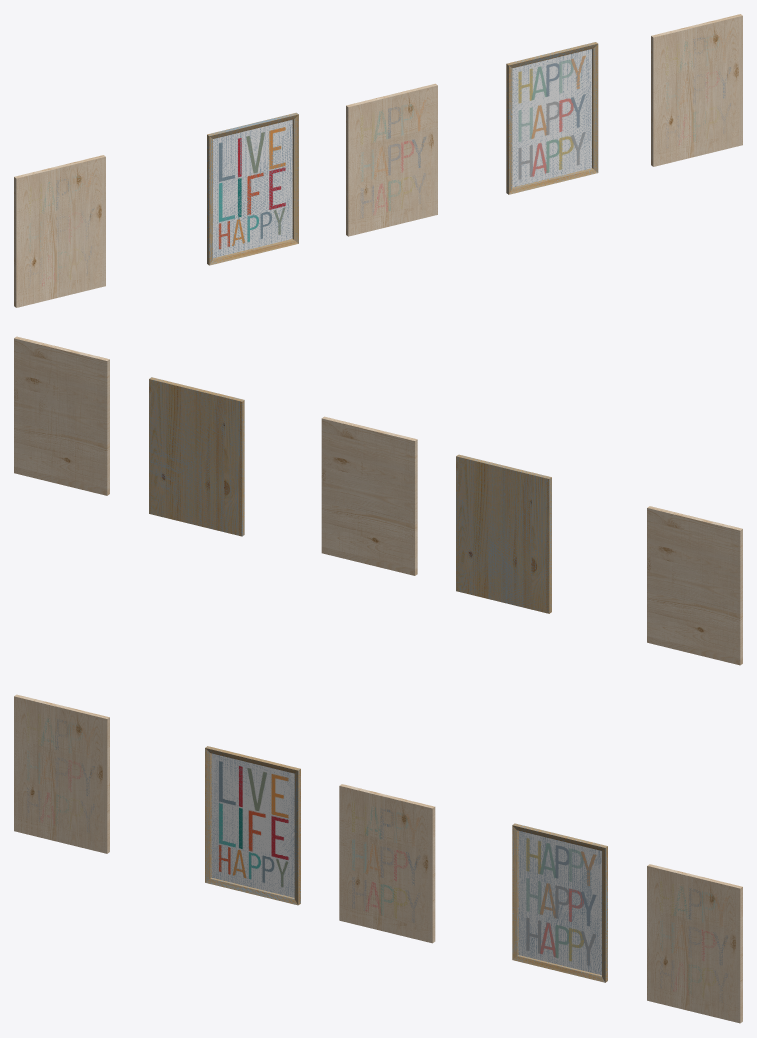
File: Furniture-25.fbx
3 renders of one model, top to bottom at view 1: azimuth 30°, elevation 25°; view 2: azimuth 150°, elevation 25°; view 3: azimuth 330°, elevation 25°, orthographic. The views are drawn at different scales.
Visible parts, largest first — view 1: Group5, Group10, Group12, Group7, Group2, Group8, Group3; view 2: Group12, Group8, Group3, Group5, Group10; view 3: Group12, Group5, Group10, Group2, Group7, Group3, Group8.
Boxes of the visible parts, <box> form: Group5: <box>651,14,742,166</box>; Group10: <box>14,155,105,307</box>; Group12: <box>346,83,437,236</box>; Group7: <box>512,49,591,187</box>; Group2: <box>213,120,292,258</box>; Group8: <box>506,42,598,194</box>; Group3: <box>207,112,298,265</box>; Group12: <box>321,416,417,575</box>; Group8: <box>149,377,244,536</box>; Group3: <box>456,454,551,613</box>; Group5: <box>14,336,109,495</box>; Group10: <box>647,506,742,665</box>; Group12: <box>339,784,435,943</box>; Group5: <box>647,864,742,1023</box>; Group10: <box>14,694,109,853</box>; Group2: <box>211,753,294,897</box>; Group7: <box>518,831,601,975</box>; Group3: <box>205,746,300,905</box>; Group8: <box>512,823,607,982</box>.
Bounding box in the file's own units: 1.67 × 0.29 × 0.0701.
